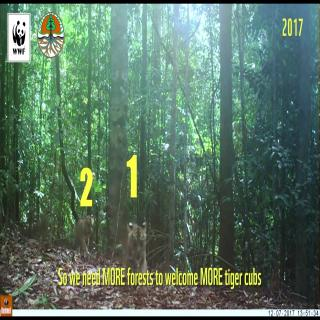Tiger: (66, 210, 102, 261), (121, 207, 150, 269)
